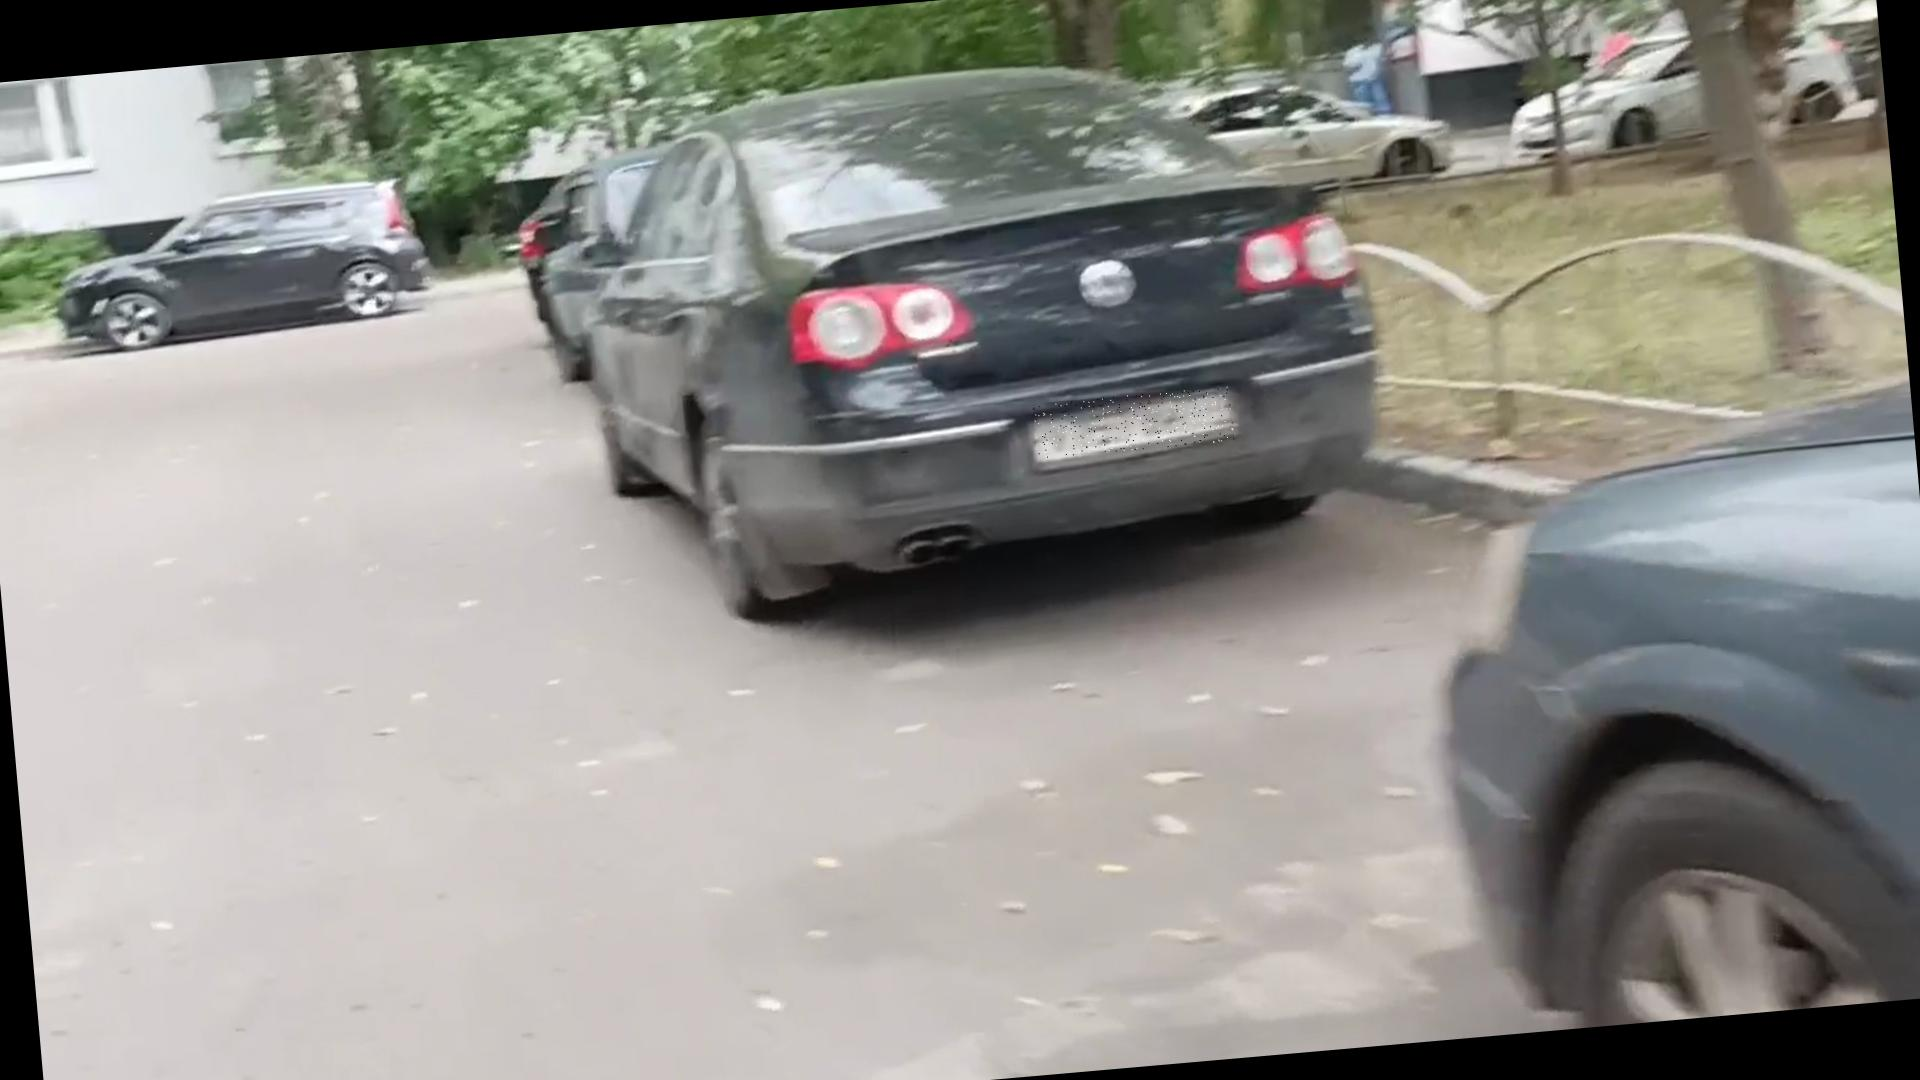plate: (1034, 388, 1236, 460)
